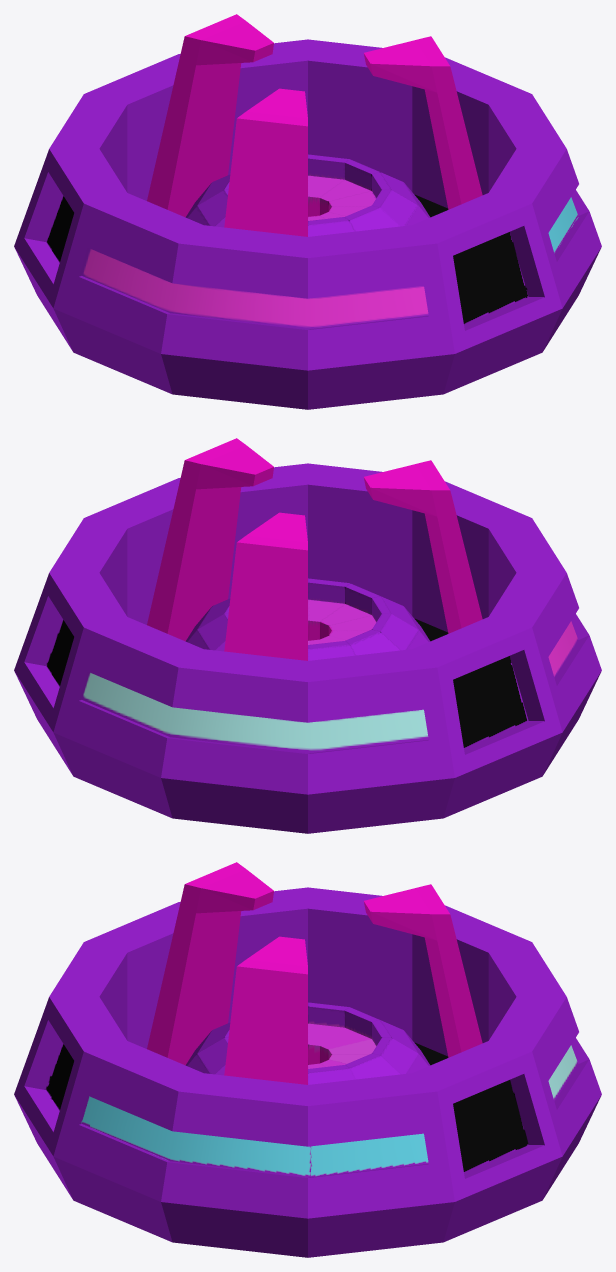
File: V_Laser.FBX
3 renders of one model, top to bottom at view 1: azimuth 30°, elevation 25°; view 2: azimuth 150°, elevation 25°; view 3: azimuth 270°, elevation 25°, orthographic.
Visible parts, largest first — view 1: Laser; view 2: Laser; view 3: Laser.
Boxes of the visible parts, x1,y1,x2,y2 form: Laser: (14,14,601,409); Laser: (14,438,601,833); Laser: (14,862,601,1257).
Bounding box in the file's own units: 11.52 × 6.38 × 11.52.
